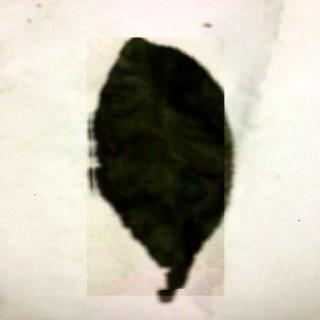Red Leaf Spot: (88, 39, 226, 297)
